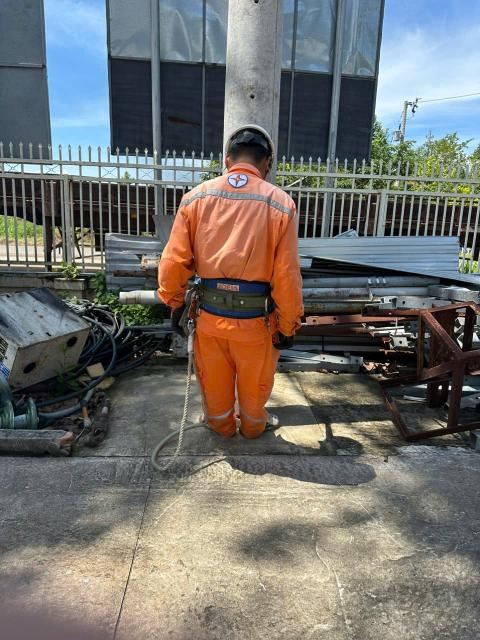harness: (168, 272, 294, 319)
helmet: (213, 118, 308, 182)
shoes: (252, 406, 286, 433)
